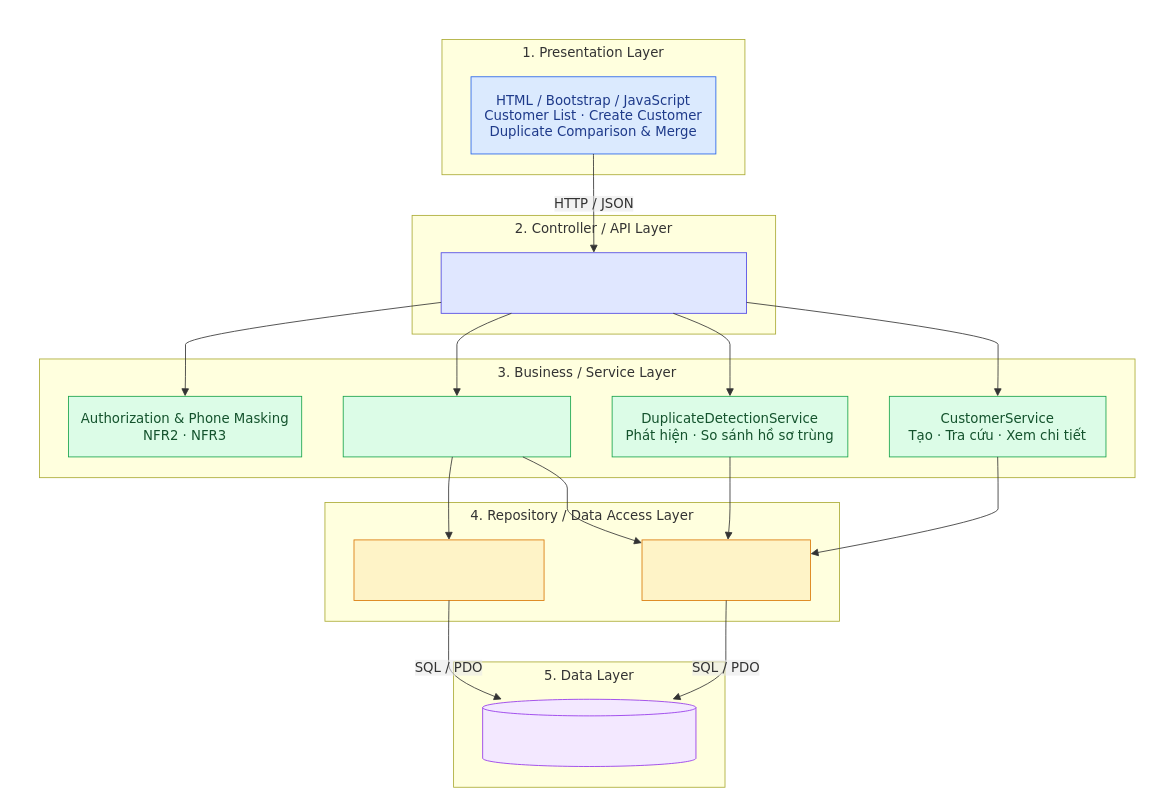
The diagram is 1150 pixels wide and 802 high, and some of its shapes have lost their labels. Each missing label, with the centre of its shape:
CustomerController.php HTTP Request · Validation · JSON Response: [593,282]
CustomerRepository Customer Queries: [725,570]
MergeHistoryRepository Merge History Queries: [448,570]
MergeService Chọn hồ sơ chính · Gộp hồ sơ: [456,426]
MySQL Database Customer Records · Merge History: [589,732]
